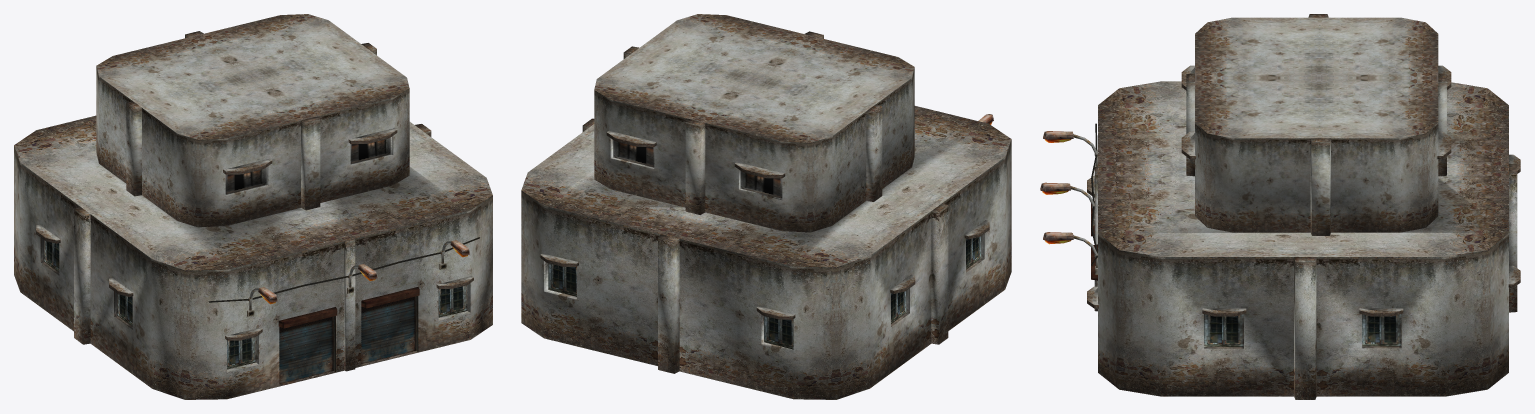
Rendered from BuildingL_Seperated.fbx.
3 renders of one model, left to right at view 1: azimuth 30°, elevation 25°; view 2: azimuth 150°, elevation 25°; view 3: azimuth 270°, elevation 25°, orthographic. The views are drawn at different scales.
Visible parts, largest first — view 1: BuildingL_Wall1, BuildingL_Wall2, BuildingLRoof1, BuildingL_Roof2, BuildingL_Door2, BuildingL_Door1, BuildingL_Lighting, BuildingL_Window1, BuildingL_Window9, BuildingL_Window10, BuildingL_Window8, BuildingL_Window6 (+2 smaller); view 2: BuildingL_Wall1, BuildingL_Wall2, BuildingL_Roof2, BuildingLRoof1, BuildingL_Window5, BuildingL_Window4, BuildingL_Window11, BuildingL_Window12, BuildingL_Window7, BuildingL_Window6; view 3: BuildingL_Wall1, BuildingLRoof1, BuildingL_Roof2, BuildingL_Wall2, BuildingL_Lighting, BuildingL_Window3, BuildingL_Window2.
Part boxes in pixels (x1,y1,x2,y2): BuildingL_Wall1: (14,124,492,399); BuildingL_Wall2: (96,31,409,227); BuildingLRoof1: (14,115,492,270); BuildingL_Roof2: (96,14,409,139); BuildingL_Door2: (361,287,419,363); BuildingL_Door1: (278,307,337,383); BuildingL_Lighting: (208,237,479,316); BuildingL_Window1: (436,275,473,320); BuildingL_Window9: (223,158,272,195); BuildingL_Window10: (348,127,397,165); BuildingL_Window8: (225,327,262,372); BuildingL_Window6: (36,224,60,275); BuildingL_Wall1: (521,118,1011,399); BuildingL_Wall2: (594,31,914,232); BuildingL_Roof2: (594,14,914,142); BuildingLRoof1: (521,106,1011,267); BuildingL_Window5: (756,306,795,352); BuildingL_Window4: (540,253,578,299); BuildingL_Window11: (606,130,656,168); BuildingL_Window12: (734,162,785,199); BuildingL_Window7: (964,220,989,272); BuildingL_Window6: (890,274,915,326); BuildingL_Wall1: (1094,163,1517,399); BuildingLRoof1: (1098,81,1508,256); BuildingL_Roof2: (1195,17,1438,138); BuildingL_Wall2: (1186,14,1446,235); BuildingL_Lighting: (1040,123,1097,274); BuildingL_Window3: (1359,308,1403,348); BuildingL_Window2: (1202,308,1246,348).
Size of the model in its own units: 1646 by 967 by 1800.
